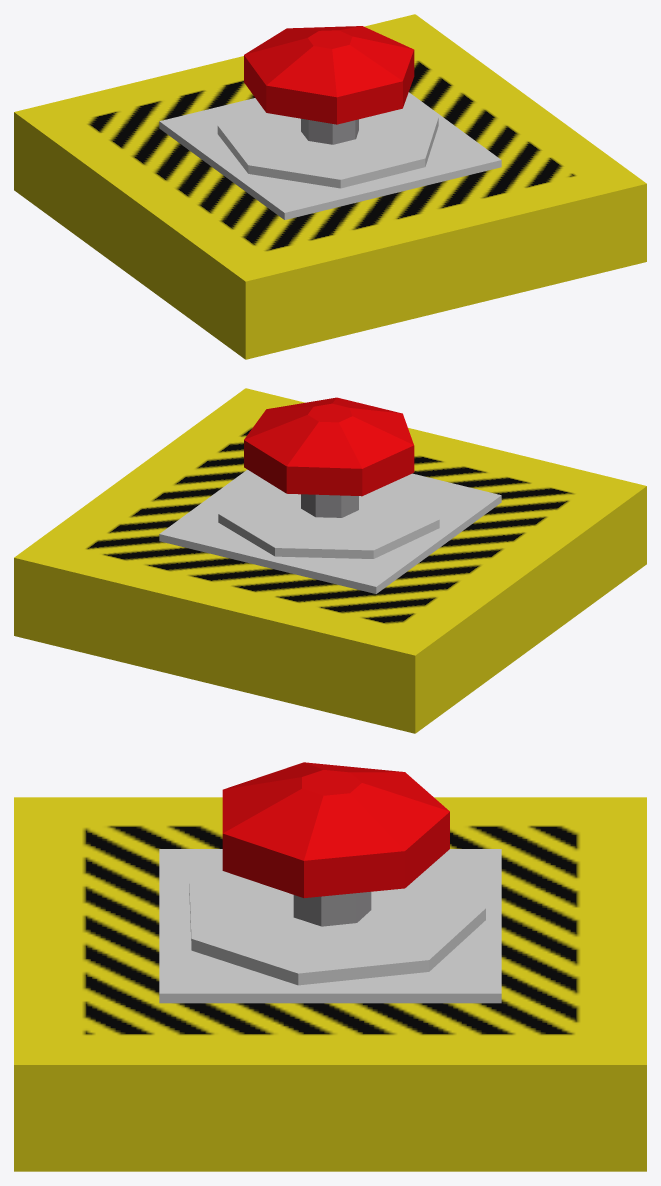
File: Nuclear_button.glb
The picture shows the model from 3 angles, top to bottom: view 1: azimuth 30°, elevation 25°; view 2: azimuth 150°, elevation 25°; view 3: azimuth 270°, elevation 25°; orthographic projection. The views are drawn at different scales.
Parts seen in each view (by area): view 1: Cylinder, Cylinder.001; view 2: Cylinder, Cylinder.001; view 3: Cylinder, Cylinder.001.
Boxes of the visible parts, x1=… form: Cylinder: x1=14, y1=14, x2=646, y2=359; Cylinder.001: x1=244, y1=26, x2=414, y2=144; Cylinder: x1=14, y1=388, x2=646, y2=733; Cylinder.001: x1=244, y1=397, x2=414, y2=517; Cylinder: x1=14, y1=797, x2=646, y2=1171; Cylinder.001: x1=222, y1=762, x2=449, y2=926.
Size of the model in its own units: 2 by 0.8894 by 2.
Materials: 4 (1 with a texture image).
